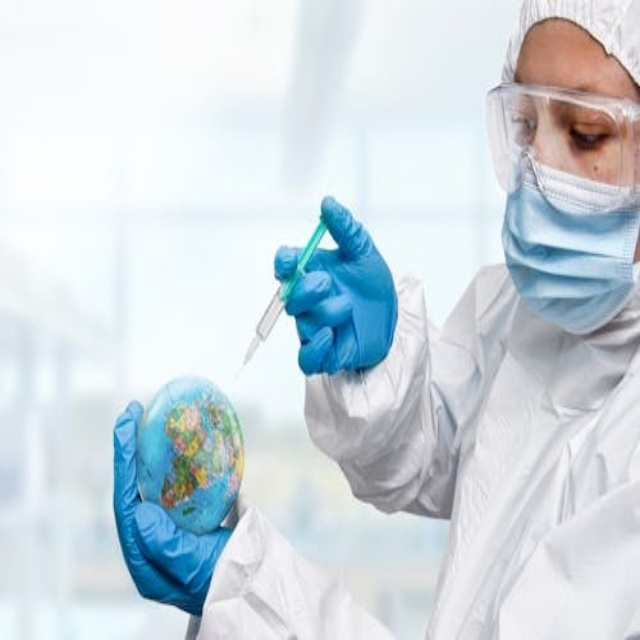Gafas: (480, 82, 640, 205)
Guantes: (114, 394, 235, 619), (272, 196, 397, 379)
Mascara: (499, 122, 640, 335)
